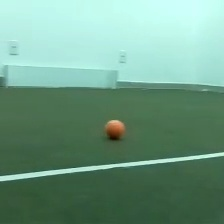ball: (104, 117, 127, 141)
goal: (1, 61, 121, 90)
